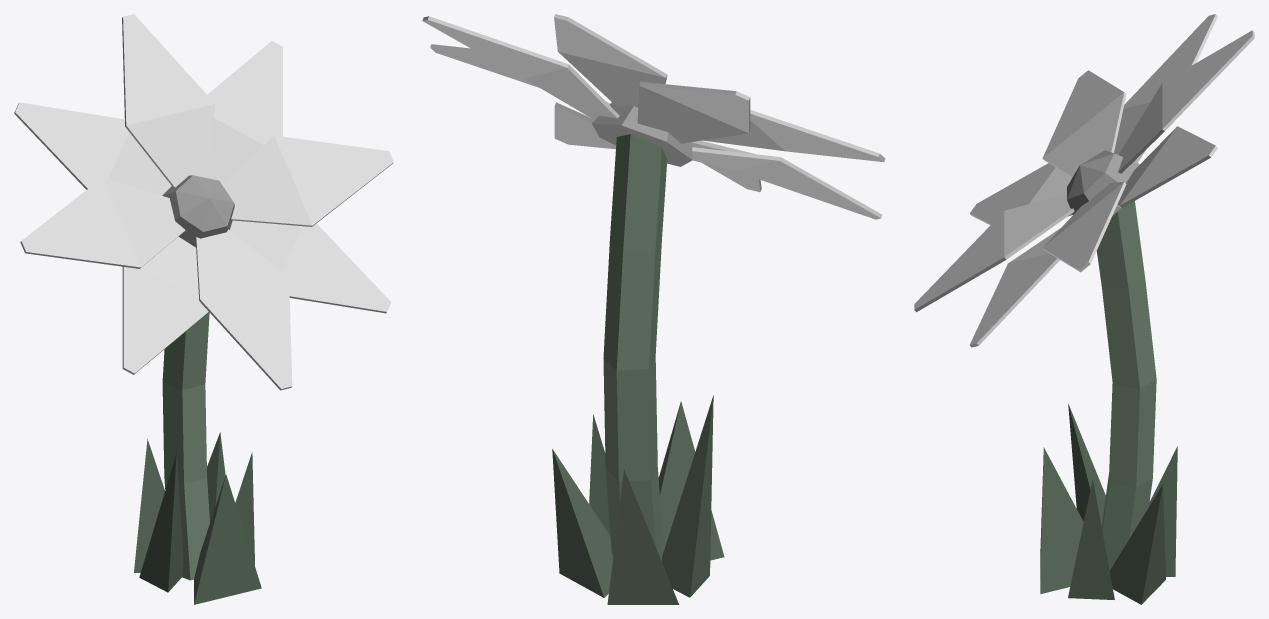
File: Flower_1_White.fbx
3 views of the same model, side by side, from view 1: azimuth 30°, elevation 25°; view 2: azimuth 150°, elevation 25°; view 3: azimuth 270°, elevation 25° (orthographic). The views are drawn at different scales.
Visible parts, largest first — view 1: Flower_1_White; view 2: Flower_1_White; view 3: Flower_1_White.
Boxes of the visible parts, x1,y1,x2,y2 form: Flower_1_White: [14, 14, 393, 604]; Flower_1_White: [422, 14, 885, 604]; Flower_1_White: [914, 14, 1254, 604].
Size of the model in its own units: 18.76 by 24.83 by 14.08.
